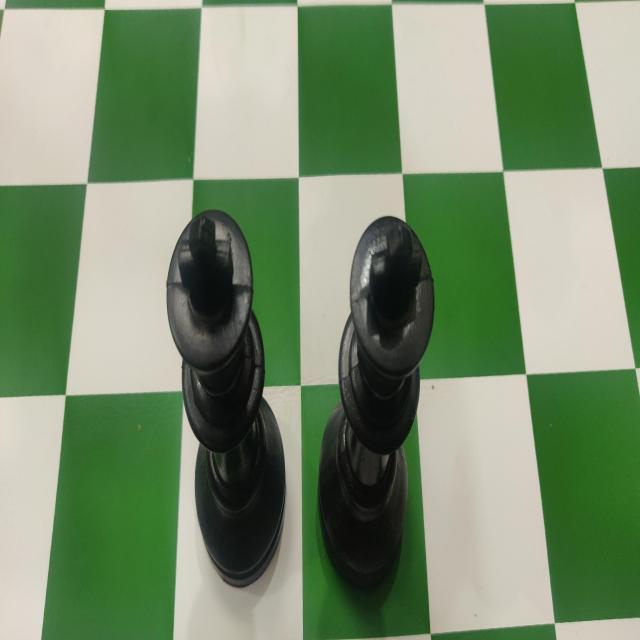black-king: (165, 206, 288, 594), (318, 206, 438, 595)
